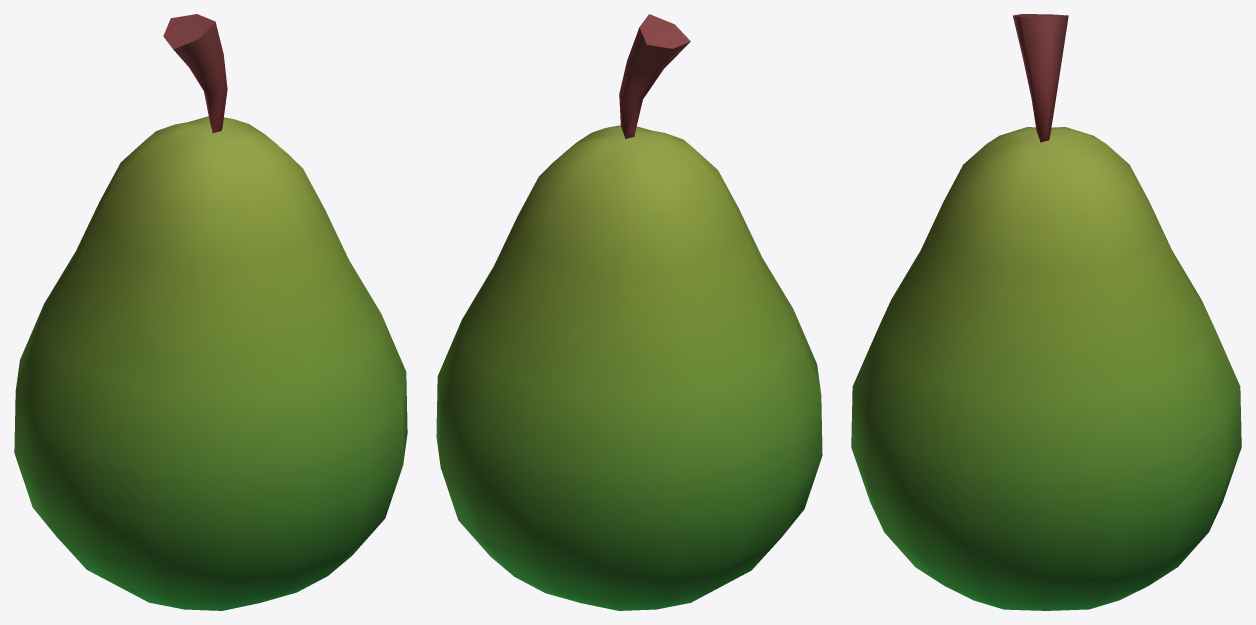
File: Pear.glb
3 views of the same model, side by side, from view 1: azimuth 30°, elevation 25°; view 2: azimuth 150°, elevation 25°; view 3: azimuth 270°, elevation 25° (orthographic).
Visible parts, largest first — view 1: geometry_0; view 2: geometry_0; view 3: geometry_0.
Part boxes in pixels (bbox=[...]): geometry_0: bbox=[14, 14, 407, 610]; geometry_0: bbox=[436, 14, 822, 610]; geometry_0: bbox=[851, 14, 1241, 610].
Bounding box in the file's own units: 0.2504 × 0.4055 × 0.2504.
1 material, 1 textured.
